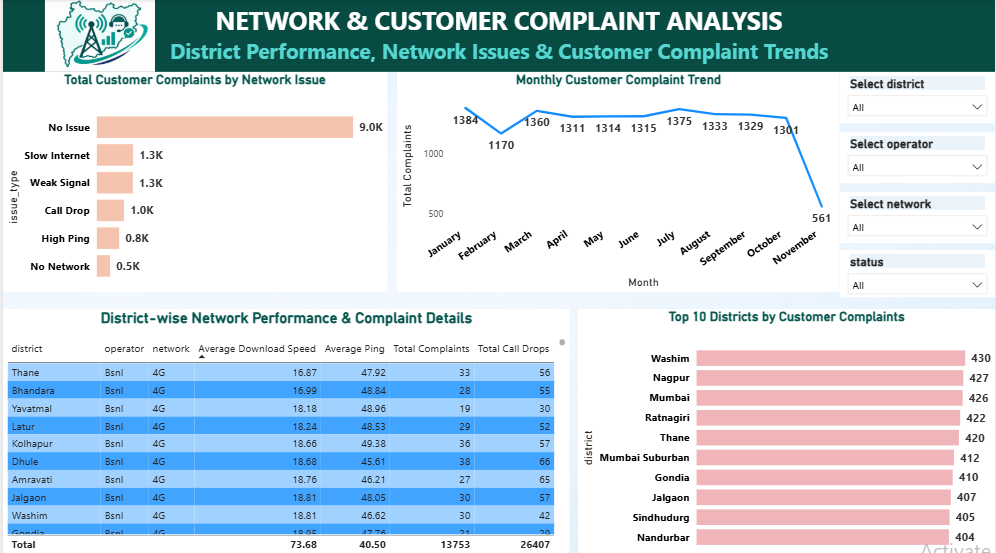

The dashboard page shown, as its layout file describes it:
{"tool":"powerbi","page":{"name":"Customer Complaints Analysis","canvas":[1280,720],"ordinal":1},"visuals":[{"type":"textbox","box":[0,0,1280,94.3],"z":0},{"type":"tableEx","title":"District-wise Network Performance & Complaint Details","fields":{"Values":["maharashtra_telecom.district","maharashtra_telecom.operator","maharashtra_telecom.network","maharashtra_telecom.Average Download Speed","maharashtra_telecom.Average Ping","maharashtra_telecom.Total Complaints","maharashtra_telecom.Total Call Drops"]},"box":[0,400,731.4,320],"z":1000},{"type":"clusteredBarChart","title":"Total Customer Complaints by Network Issue","fields":{"Category":["maharashtra_telecom.issue_type"],"Y":["maharashtra_telecom.Total Complaints"]},"box":[0,94.3,495.7,284.3],"z":2000},{"type":"lineChart","title":"Monthly Customer Complaint Trend","fields":{"Category":["maharashtra_telecom.date.Variation.Date Hierarchy.Month"],"Y":["maharashtra_telecom.Total Complaints"]},"box":[508.6,94.3,571.4,284.3],"z":3000},{"type":"clusteredBarChart","title":"Top 10 Districts by Customer Complaints","fields":{"Category":["maharashtra_telecom.district"],"Y":["maharashtra_telecom.Total Complaints"]},"box":[741.4,400,538.6,320],"z":4000},{"type":"slicer","fields":{"Values":["maharashtra_telecom.district"]},"box":[1080,94.3,200,65.7],"z":5000},{"type":"slicer","fields":{"Values":["maharashtra_telecom.operator"]},"box":[1080,171.4,200,65.7],"z":6000},{"type":"slicer","fields":{"Values":["maharashtra_telecom.network"]},"box":[1080,248.6,200,65.7],"z":7000},{"type":"slicer","fields":{"Values":["maharashtra_telecom.status"]},"box":[1080,324.3,200,61.4],"z":8000},{"type":"image","box":[27.1,0,195.7,94.3],"z":9000}]}

Visuals, with their boxes in screenshot pixels (x1, y1, x2, y2), scaled from the page's 1280x720 canvas onto the 996x553 screenshot:
textbox: box(0, 0, 995, 72)
"District-wise Network Performance & Complaint Details" tableEx: box(0, 307, 569, 552)
"Total Customer Complaints by Network Issue" clusteredBarChart: box(0, 72, 386, 291)
"Monthly Customer Complaint Trend" lineChart: box(396, 72, 840, 291)
"Top 10 Districts by Customer Complaints" clusteredBarChart: box(577, 307, 995, 552)
slicer - maharashtra_telecom.district: box(840, 72, 995, 123)
slicer - maharashtra_telecom.operator: box(840, 132, 995, 182)
slicer - maharashtra_telecom.network: box(840, 191, 995, 241)
slicer - maharashtra_telecom.status: box(840, 249, 995, 296)
image: box(21, 0, 173, 72)
